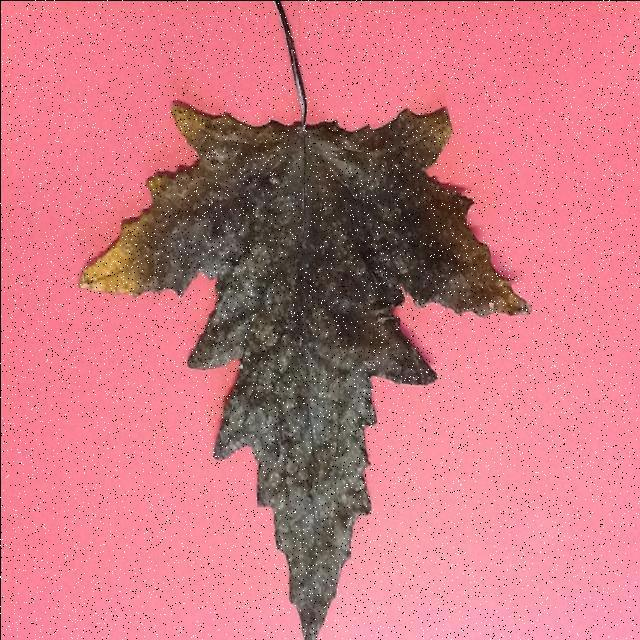foliage: (77, 0, 531, 640)
